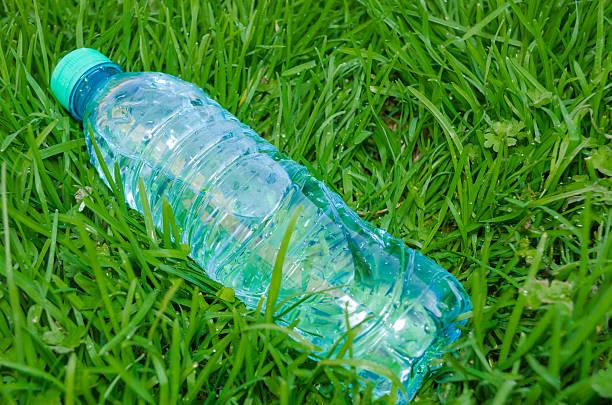HDPE: (48, 46, 108, 109)
PETE: (83, 69, 468, 405)
